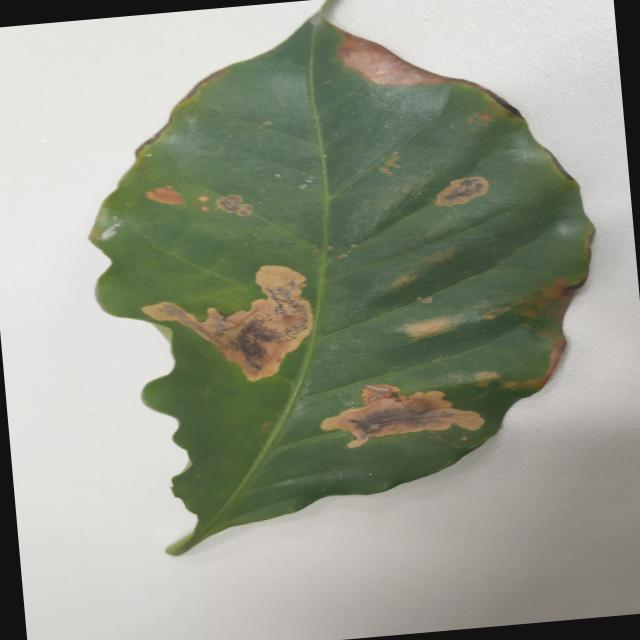KaratDaunKopi: (338, 31, 455, 85), (447, 77, 522, 117), (502, 343, 564, 390), (401, 314, 464, 339), (146, 187, 183, 204), (216, 194, 242, 211), (474, 371, 500, 386), (237, 204, 253, 215), (421, 296, 432, 303)
PengorokDaunKopi: (142, 265, 313, 381), (320, 384, 484, 447), (435, 176, 488, 206), (135, 124, 166, 155), (188, 71, 219, 95)
